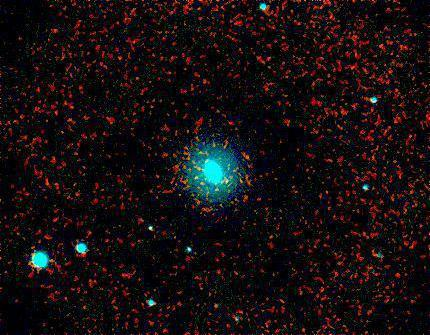star: (241, 197, 271, 227)
